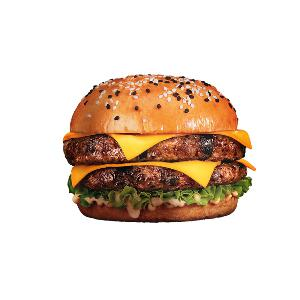cheeseburger_475cal: (64, 68, 258, 233)
